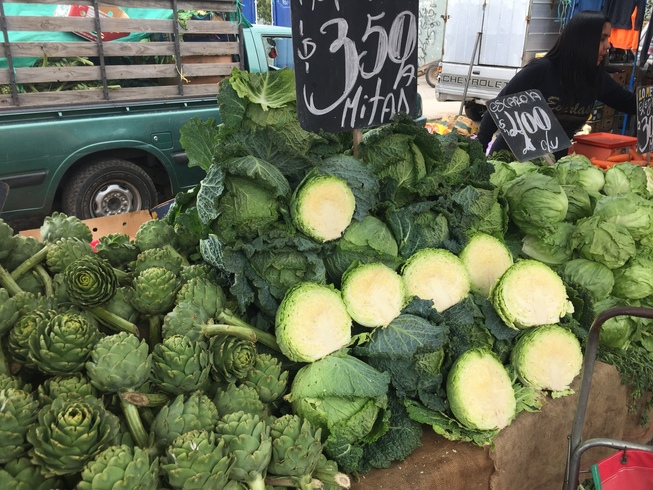precio: (277, 1, 432, 148), (481, 78, 577, 179), (632, 80, 653, 161)
